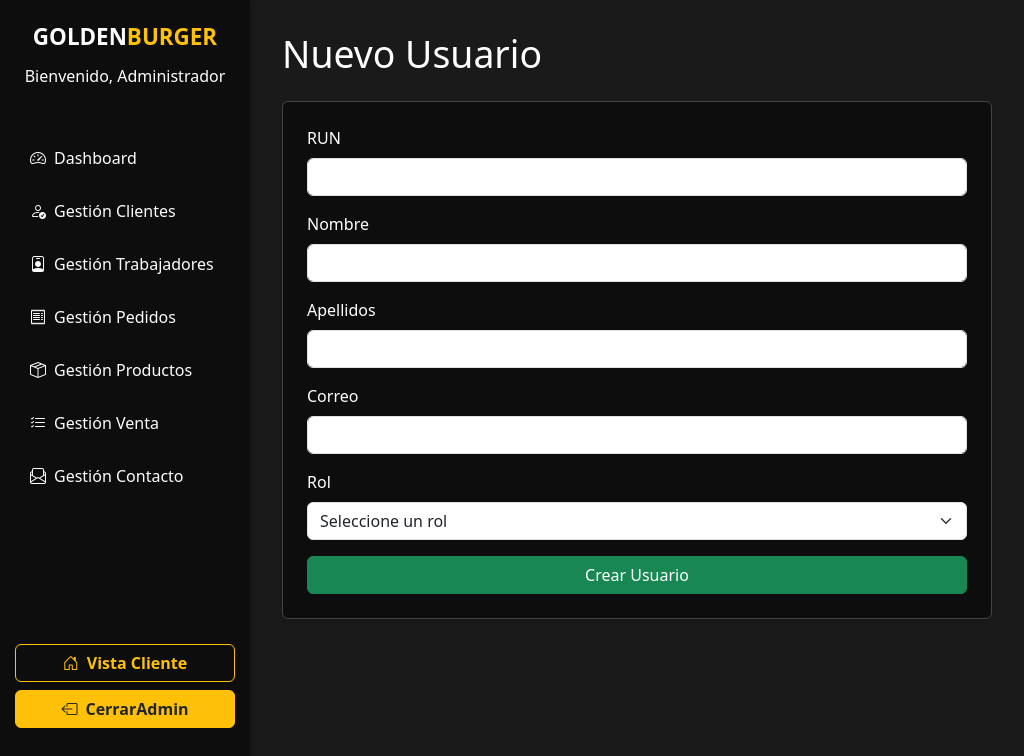
Scenario: NuevoUsuario.jsx con validaciones y edición › debería mostrar mensajes de error en rojo cuando se intenta enviar vacío
Simula el clic en el botón de envío sin rellenar los campos
Click the button "Crear Usuario". click: (637,575)
box: left=307, top=556, right=967, bottom=594
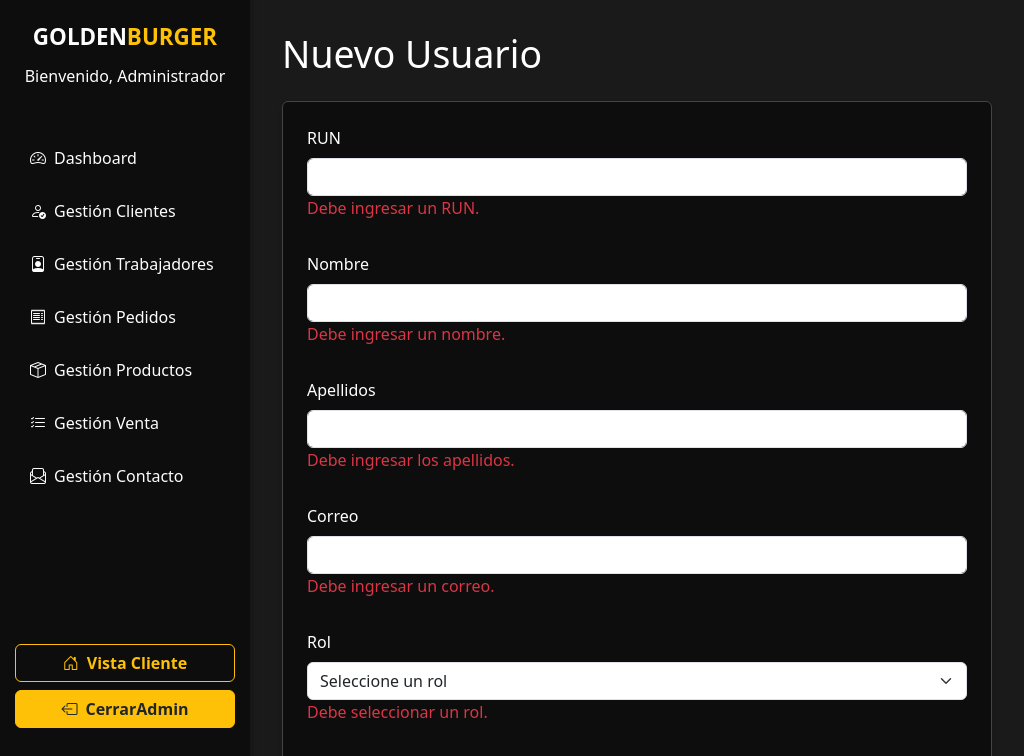
Check: the text "Debe ingresar un RUN." is shown, box left=307, top=197, right=479, bottom=219
Check: the text "Debe ingresar un nombre." is shown, box left=307, top=323, right=505, bottom=345
Check: the text "Debe ingresar los apellidos." is shown, box left=307, top=449, right=515, bottom=471
